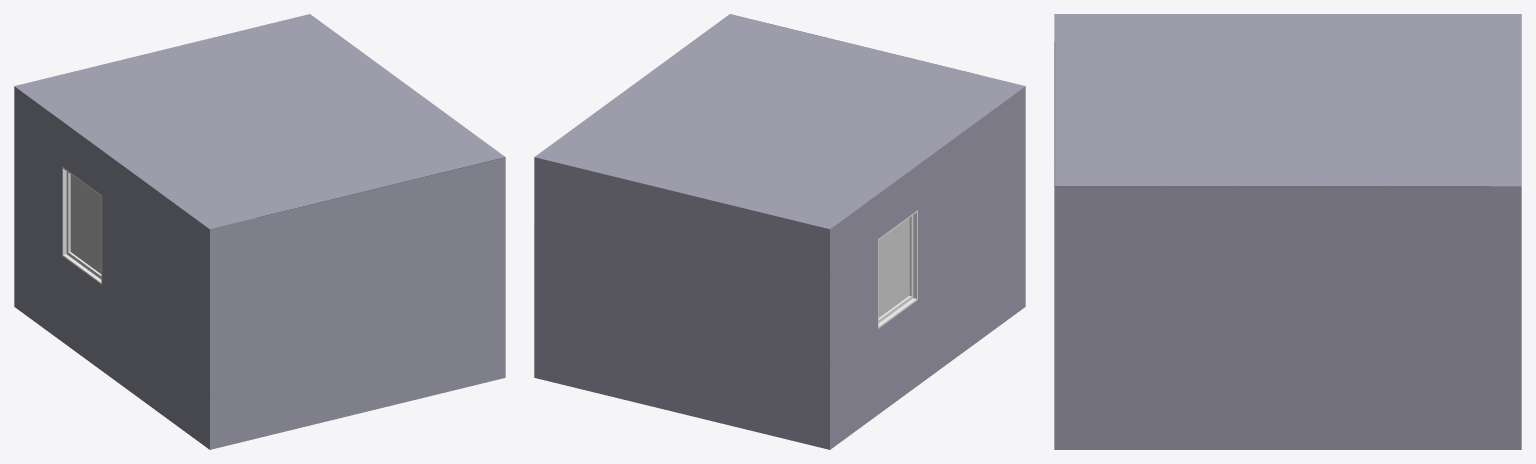
Rendered from room.fbx.
3 views of the same model, side by side, from view 1: azimuth 30°, elevation 25°; view 2: azimuth 150°, elevation 25°; view 3: azimuth 270°, elevation 25° (orthographic). The views are drawn at different scales.
Visible parts, largest first — view 1: Shell, Inner.001, Window; view 2: Shell, Inner.001, Window; view 3: Shell.
Boxes of the visible parts, bbox=[...] form: Shell: bbox=[14, 14, 505, 449]; Inner.001: bbox=[66, 171, 101, 279]; Window: bbox=[62, 166, 102, 285]; Shell: bbox=[534, 14, 1025, 449]; Inner.001: bbox=[878, 215, 913, 322]; Window: bbox=[878, 210, 917, 328]; Shell: bbox=[1054, 14, 1521, 449].
Bounding box in the file's own units: 379 × 270 × 434.
Materials: 5 (2 with a texture image).
